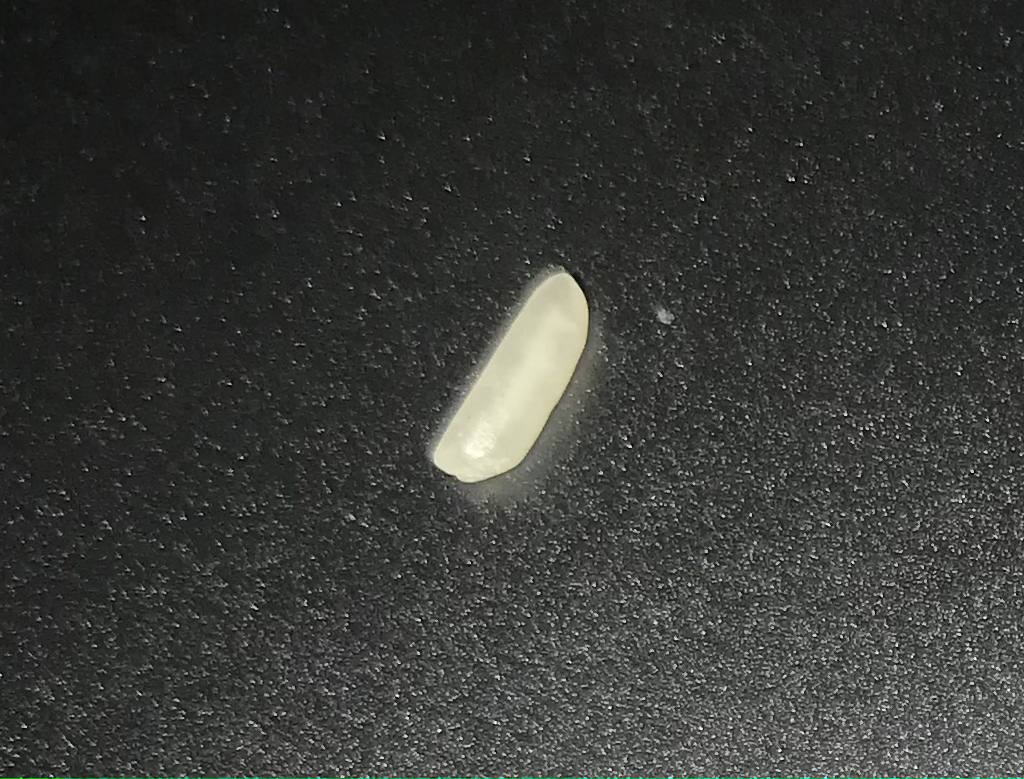Gao Thom My: (441, 264, 613, 479)
